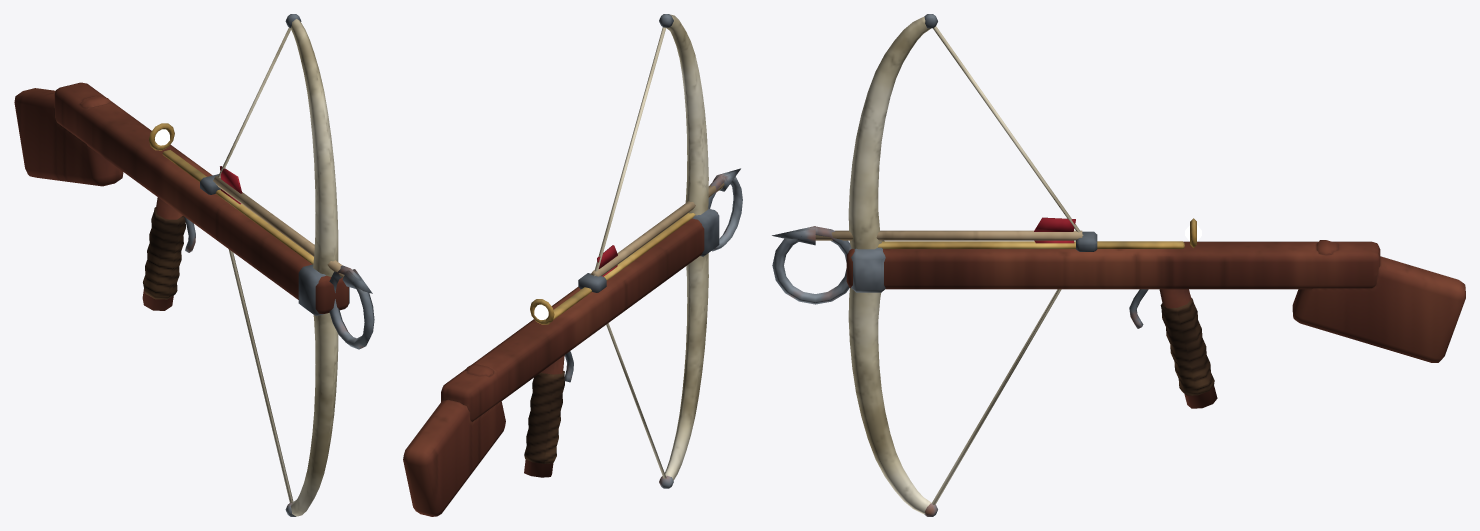
File: Crossbow.fbx
The picture shows the model from 3 angles, left to right: view 1: azimuth 30°, elevation 25°; view 2: azimuth 150°, elevation 25°; view 3: azimuth 270°, elevation 25°; orthographic projection. The views are drawn at different scales.
Visible parts, largest first — view 1: Crossbow; view 2: Crossbow; view 3: Crossbow.
Boxes of the visible parts, x1,y1,x2,y2 form: Crossbow: (14,14,374,516); Crossbow: (403,14,742,516); Crossbow: (772,14,1465,516).
Size of the model in its own units: 0.05 by 0.624 by 0.7813.
